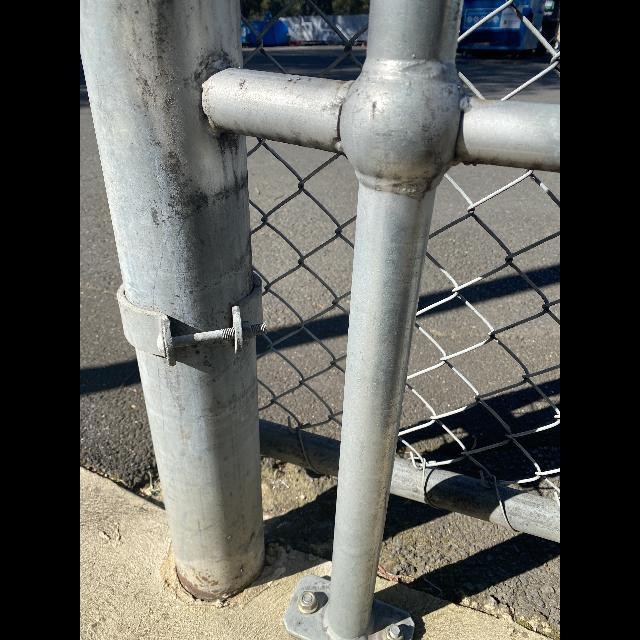Galvanized Steel: (80, 0, 560, 640)
